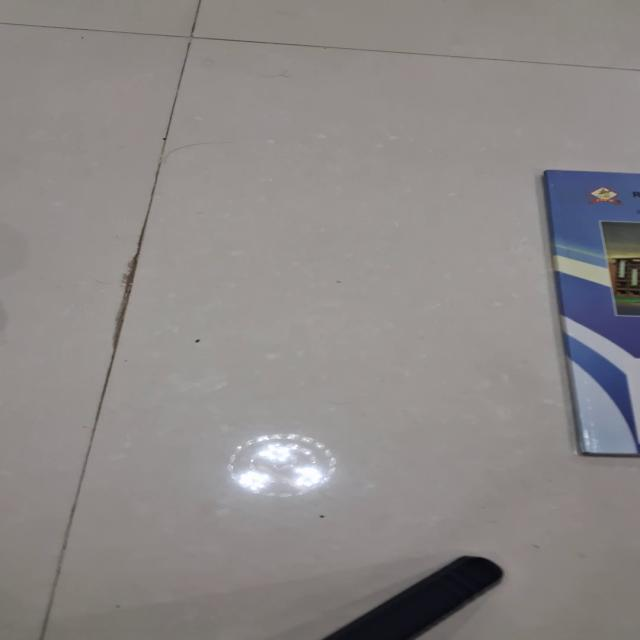paper: (2, 1, 638, 639), (542, 169, 638, 456)
